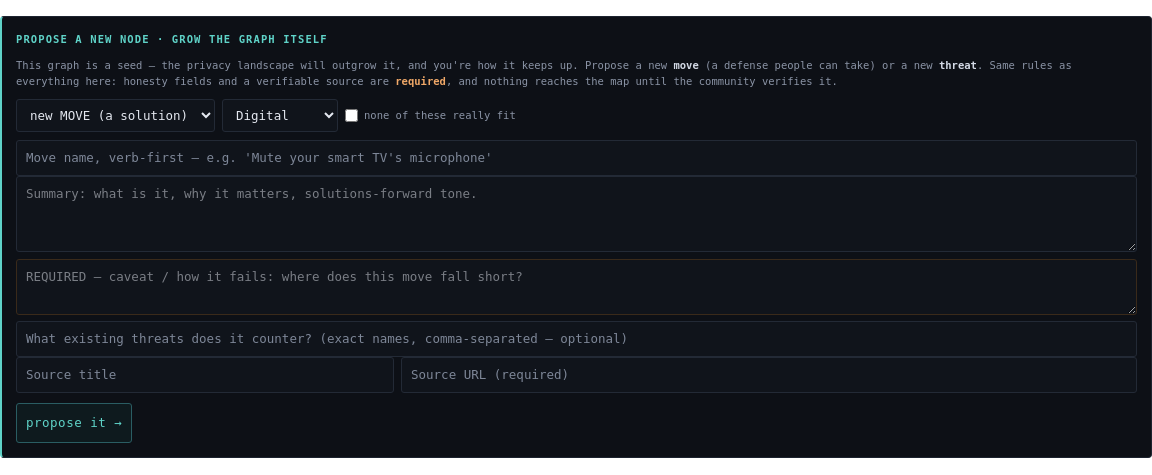
Test case: ProposeNode › blocks submit when honesty field is empty — shows error, does NOT POST
Type "Disable microphone on smart TV" into the field with placeholder "Move name, verb-first" at (576, 158), box 16,140 -> 1137,176
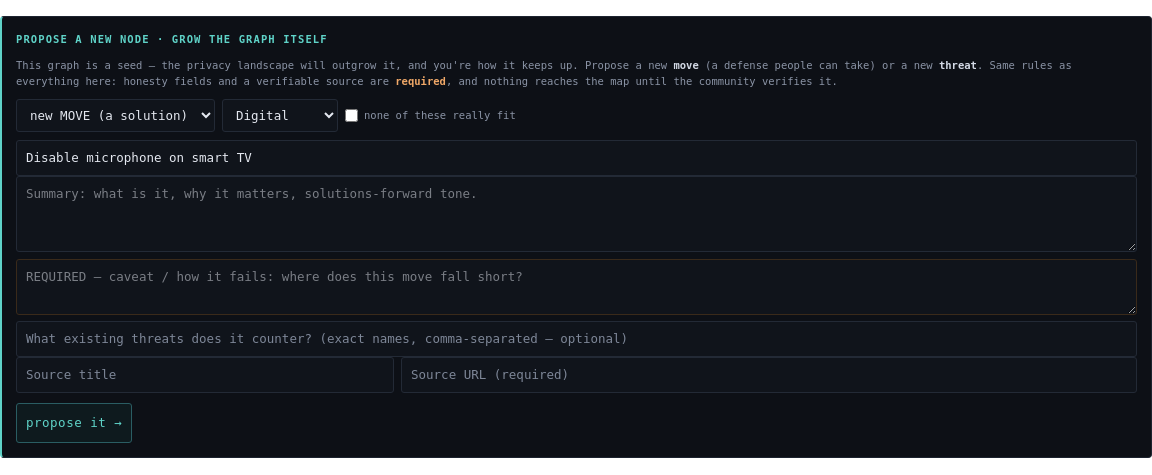
Type "Smart TVs often have always-on microphones that can be silenced in the settings menu to reduce ambient surveillance risk." into the text box with placeholder "Summary: what is it" at (576, 214), box 16,176 -> 1137,252
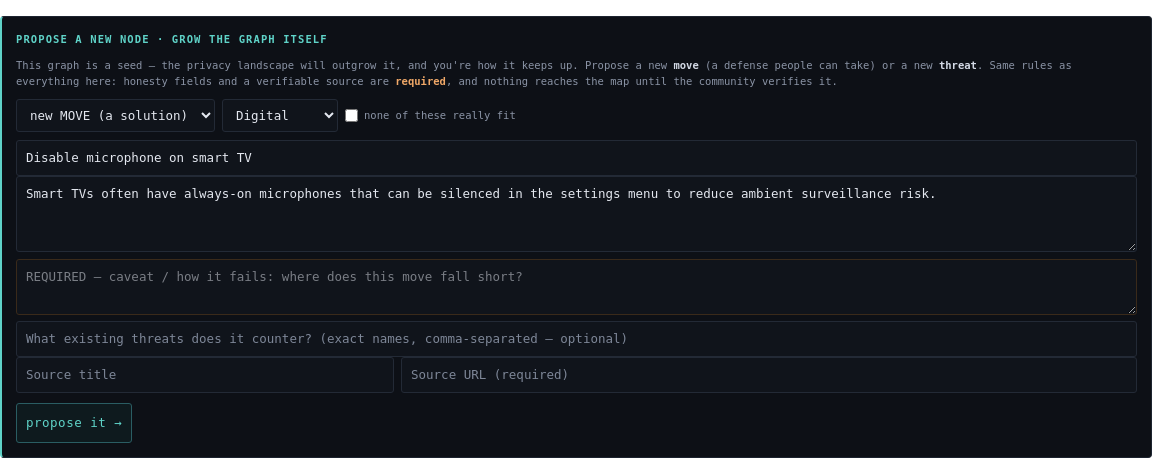
Leave honesty EMPTY
Type "https://example.com/smart-tv-mic" into the field with placeholder "Source URL (required)" at (769, 375), box 401,357 -> 1137,393
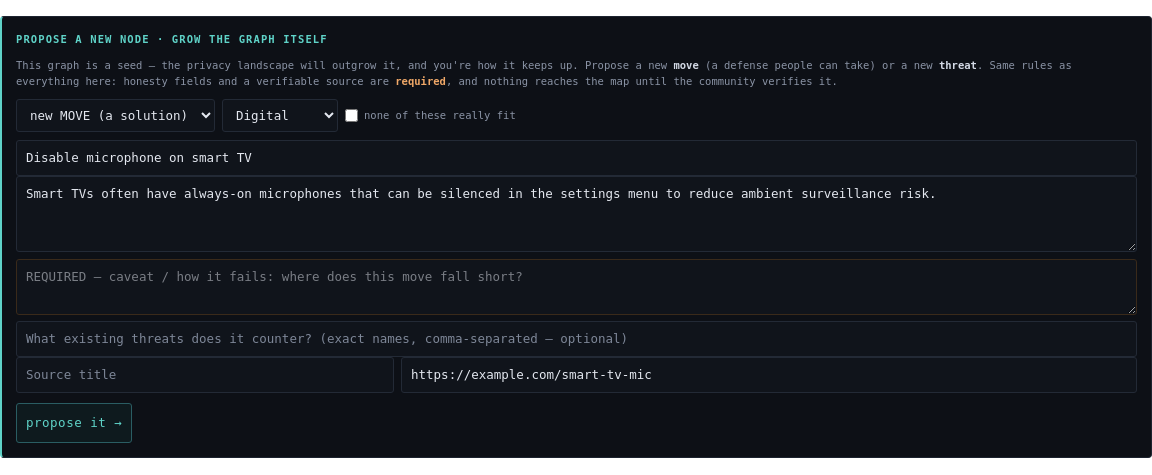
Click the button "propose it →" at (74, 423), box 16,403 -> 132,443
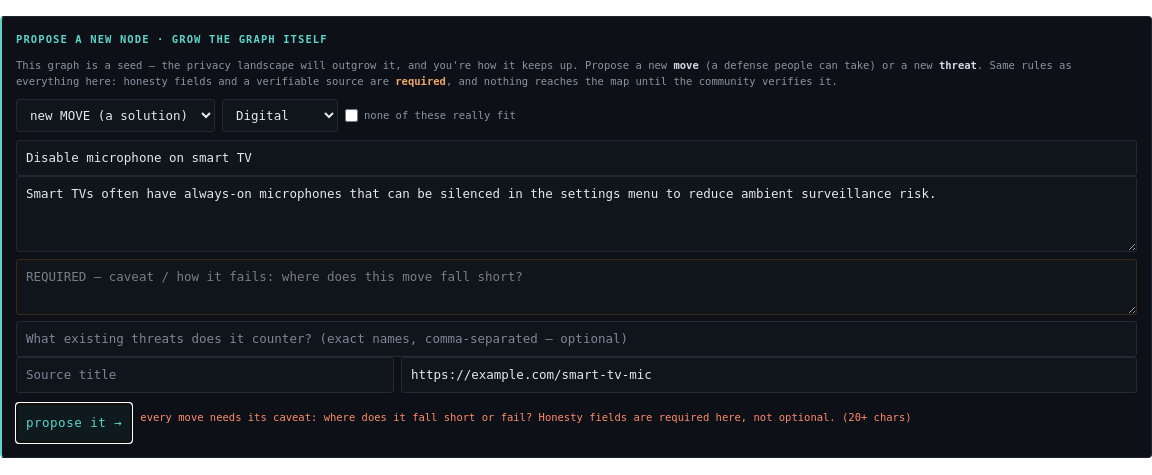
Check: the text "every move needs its caveat" is shown, box 140,411 -> 912,423
